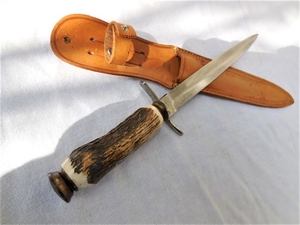knief: (47, 27, 265, 203)
